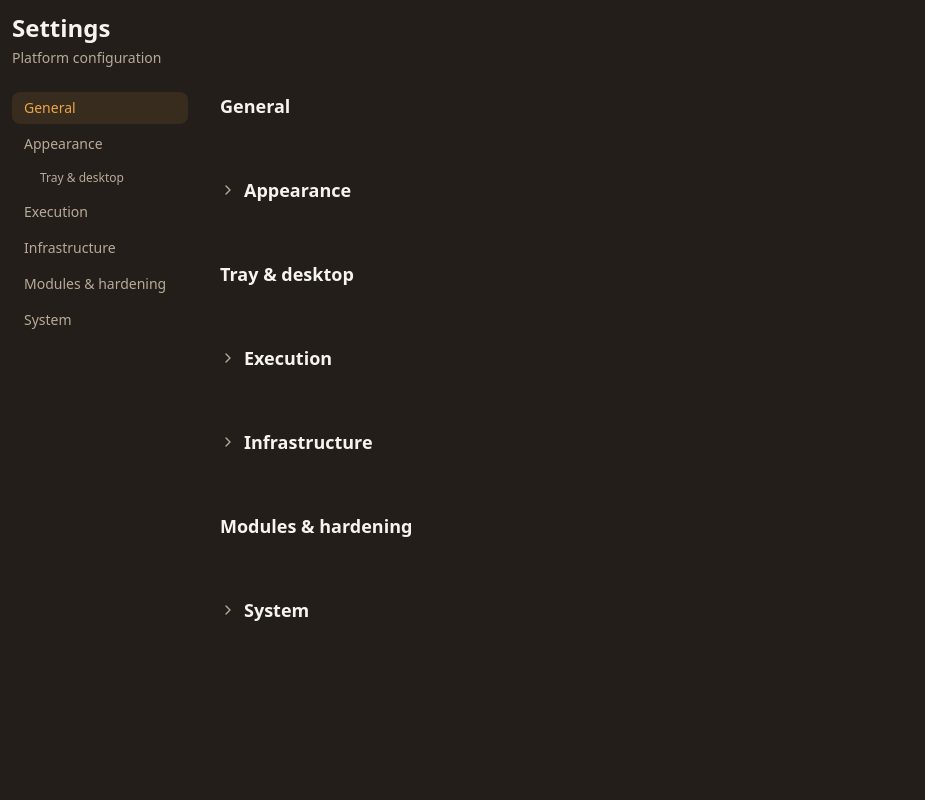
Settings — sections and #hash deep link › starts with every collapsible section closed without a hash and toggles one by its header
Click the 2nd button "System".
click(277, 610)  # box [220,596,908,624]
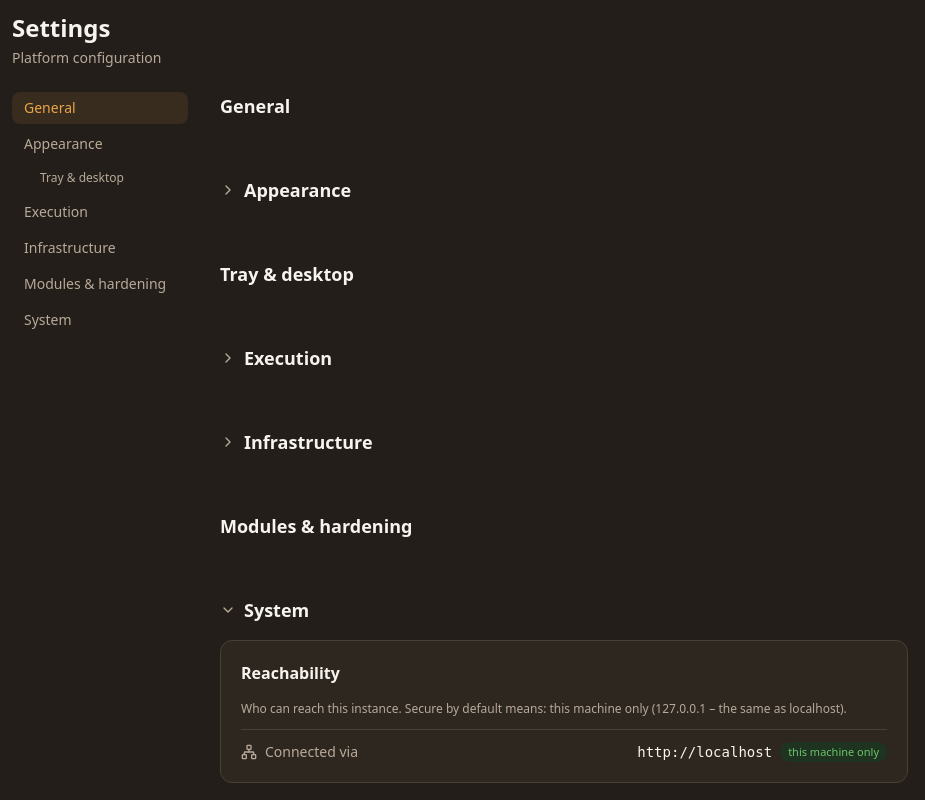
Expected: the 2nd button "System" is expanded
Click the 2nd button "System".
click(277, 610)  # box [220,596,908,624]
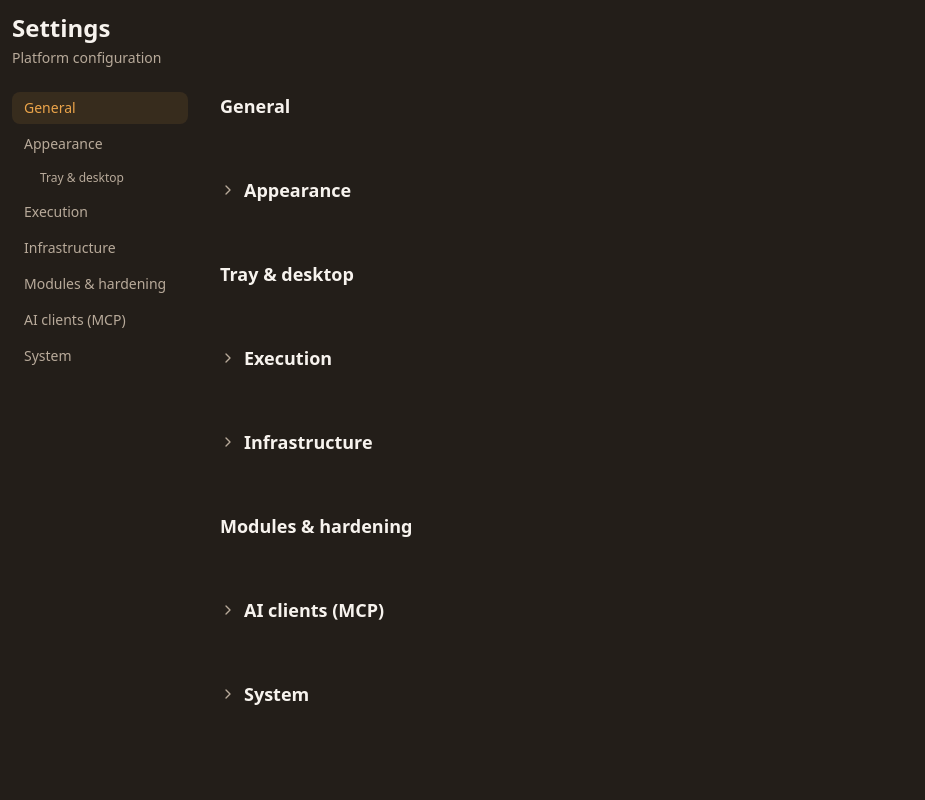
Expected: the 2nd button "System" is collapsed, [220,680,908,708]
